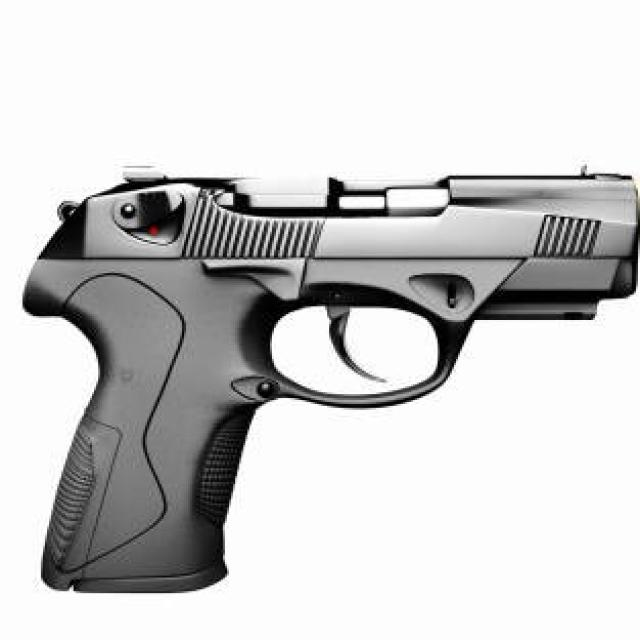pistol: (15, 156, 640, 606)
